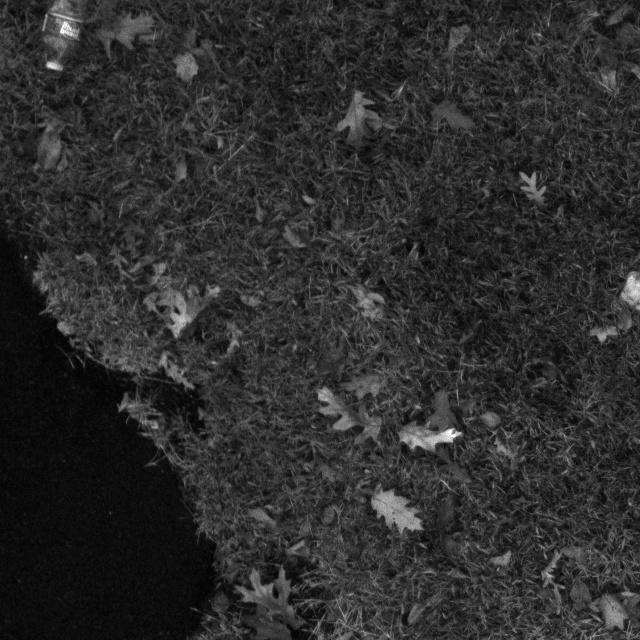bottle: (27, 0, 106, 82)
